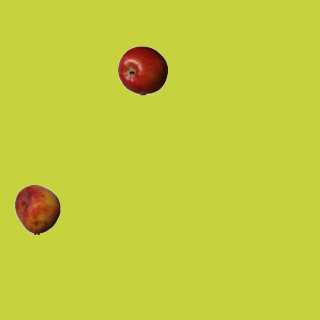Apple Braeburn: (117, 45, 167, 95)
Peach: (12, 184, 62, 234)
